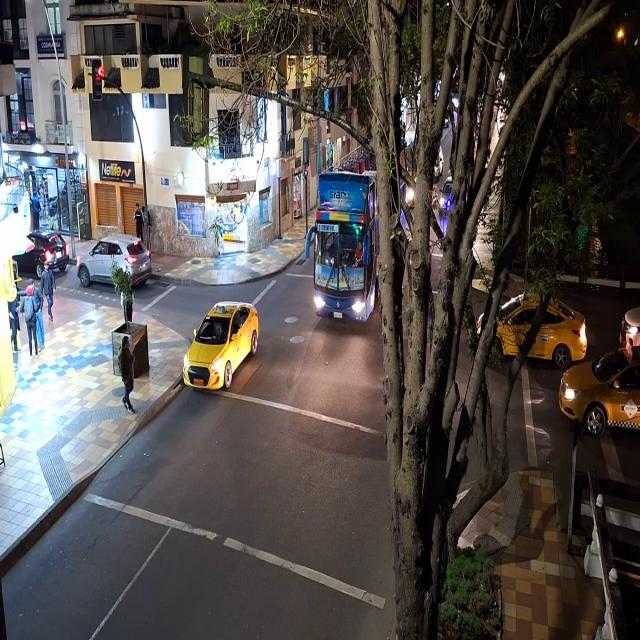BUS: (316, 169, 381, 320)
SED: (477, 296, 584, 364), (557, 350, 638, 430), (187, 305, 254, 389)
SUV: (80, 234, 153, 286)
